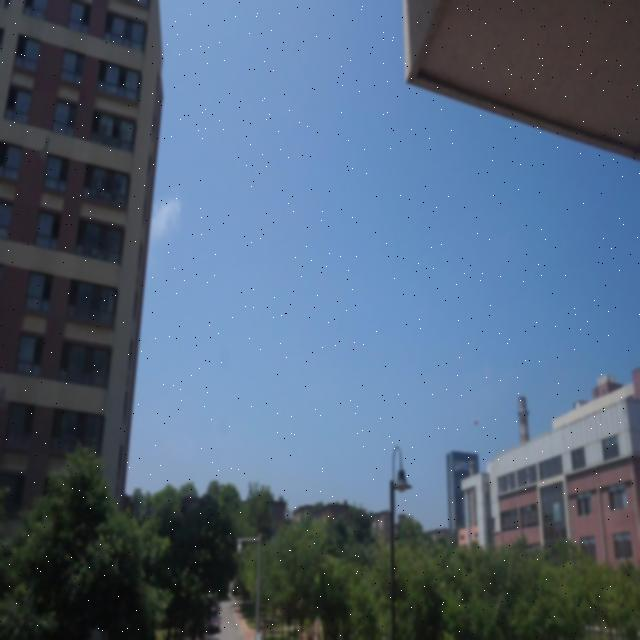UAV: (472, 418, 480, 427)
